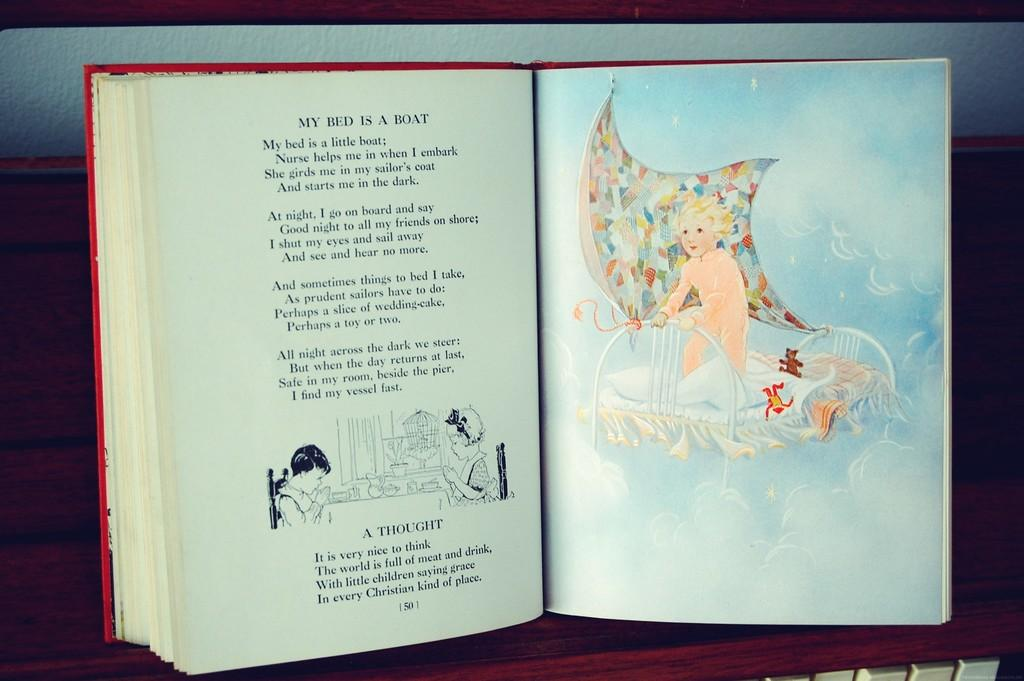book: (90, 60, 947, 632)
